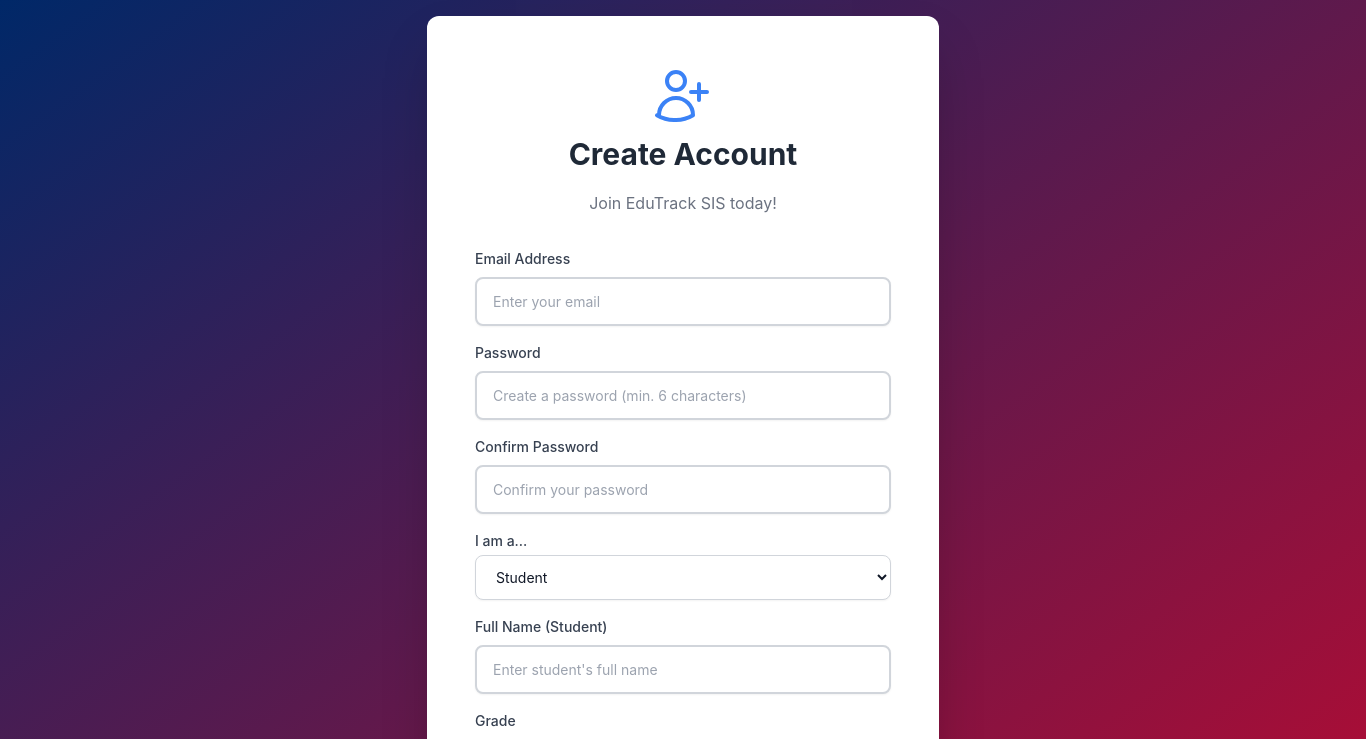
RegisterScreen Component › Role-Specific Fields › shows additional fields for teacher role
Select "Teacher" in the dropdown labelled "I am a..." at point(683, 577), box x1=475 y1=554 x2=891 y2=600
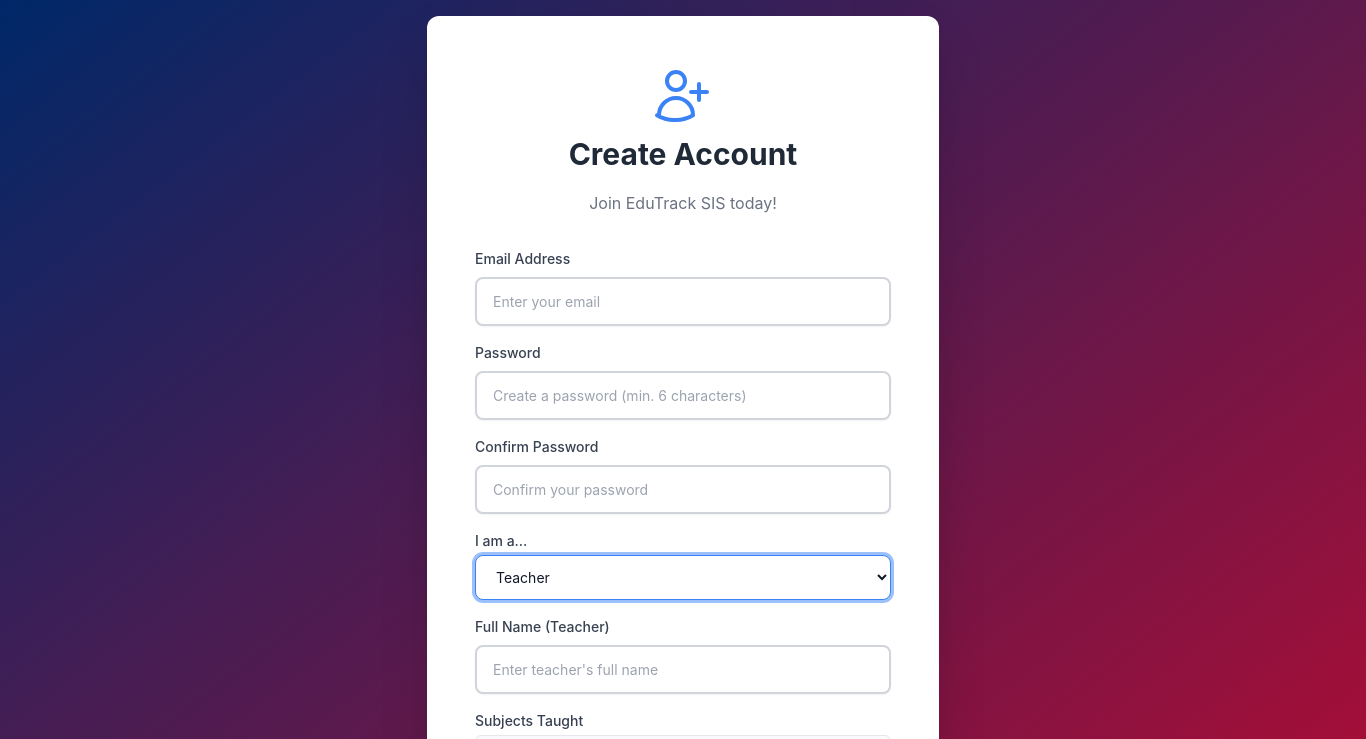
Now the field labelled "Full Name (Teacher)" is shown, box x1=475 y1=644 x2=891 y2=694
